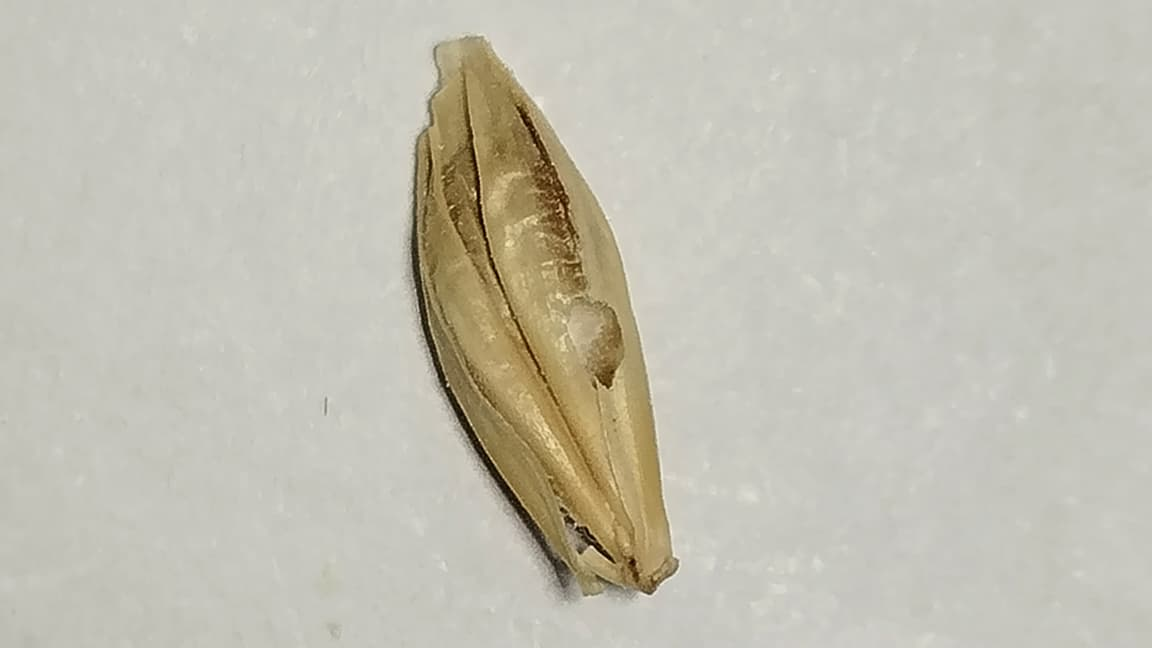damage: (410, 33, 678, 596)
insectdamage: (565, 299, 624, 391)
staindamage: (485, 103, 580, 264), (433, 156, 490, 260)
